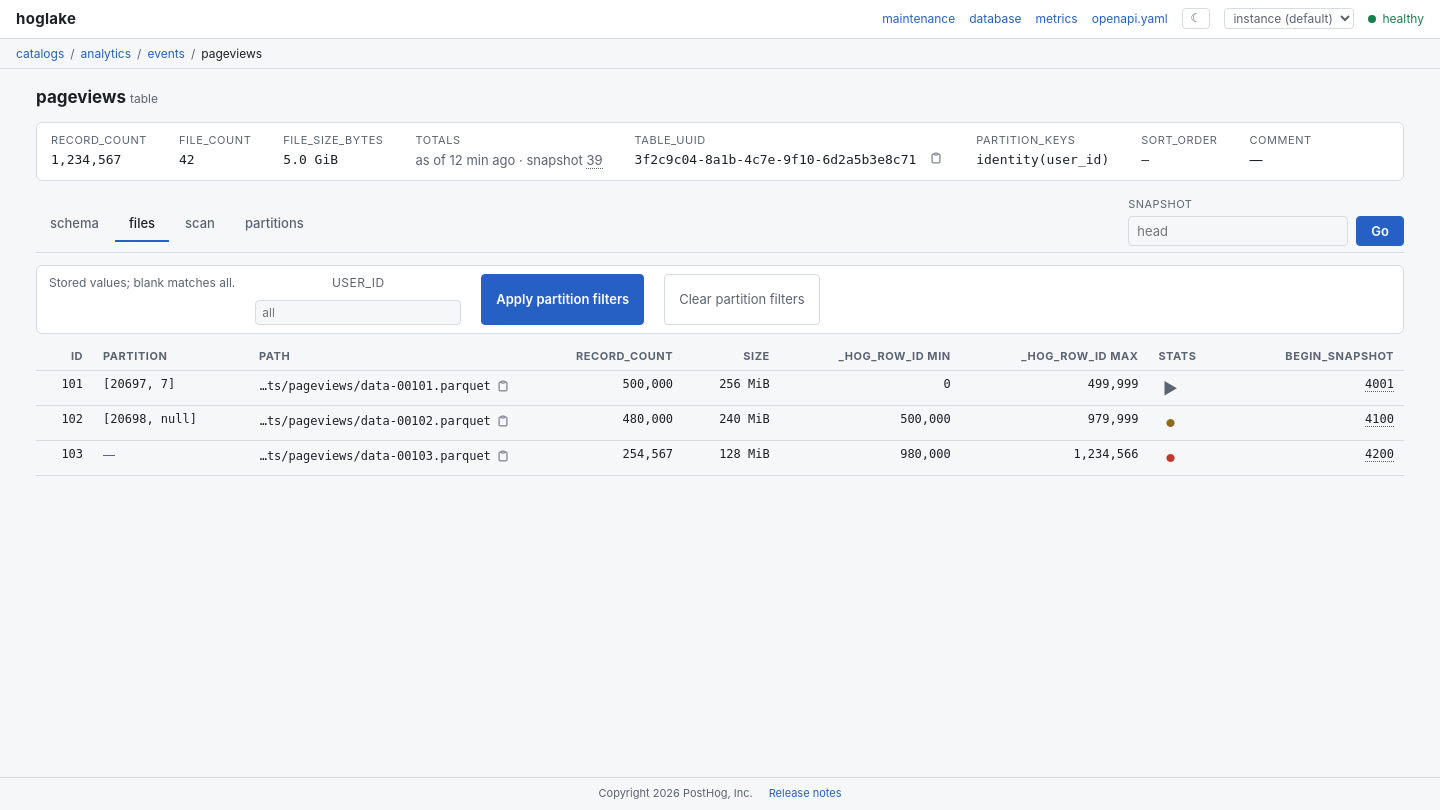
Test: TablePage › preserves identity text, whitespace, colons, Unicode and large integers
Type " 9007199254740993:🦔 " into the field named "filter by user_id" at (358, 312), box [255,300,461,325]
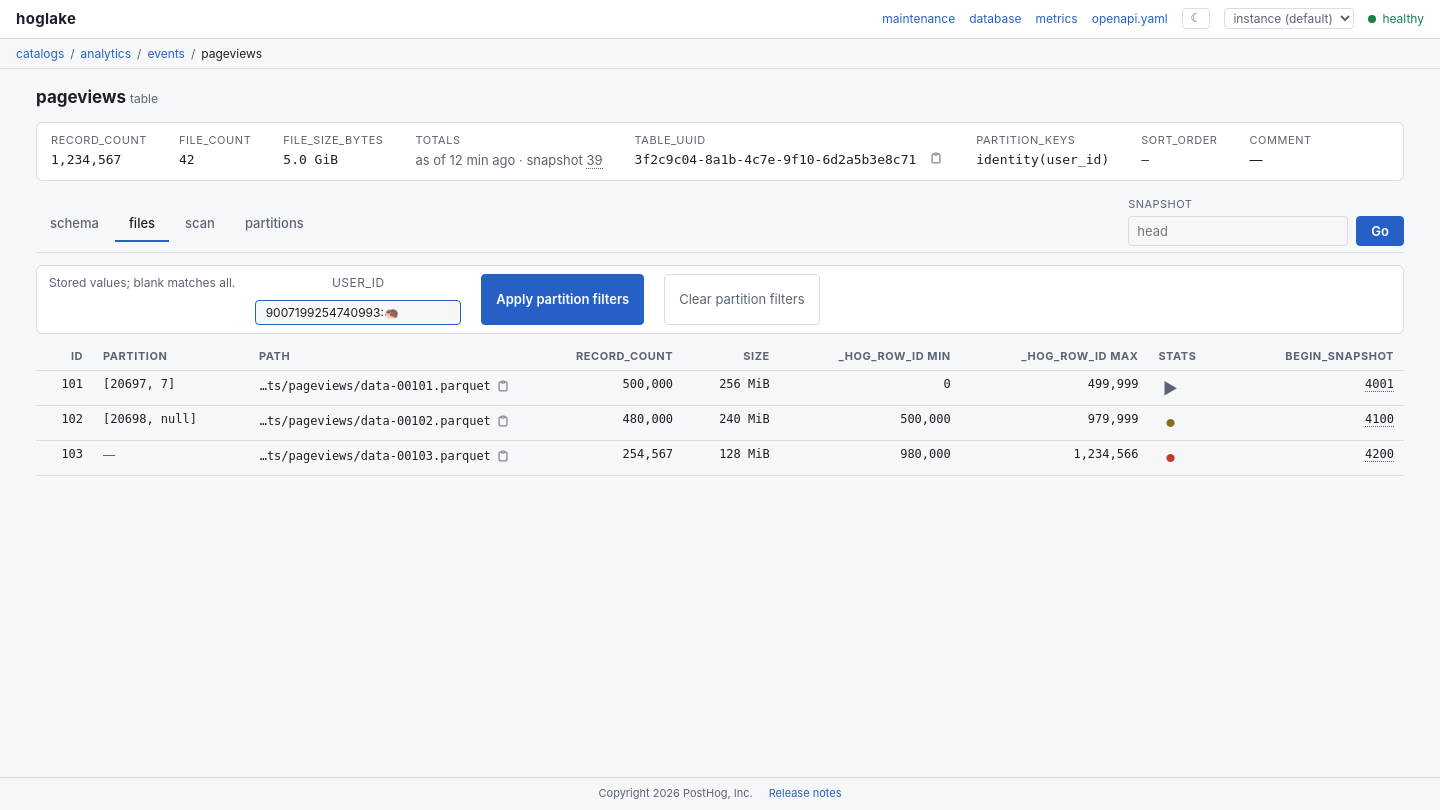
Click the button "Apply partition filters" at (563, 300), box [481,274,644,325]
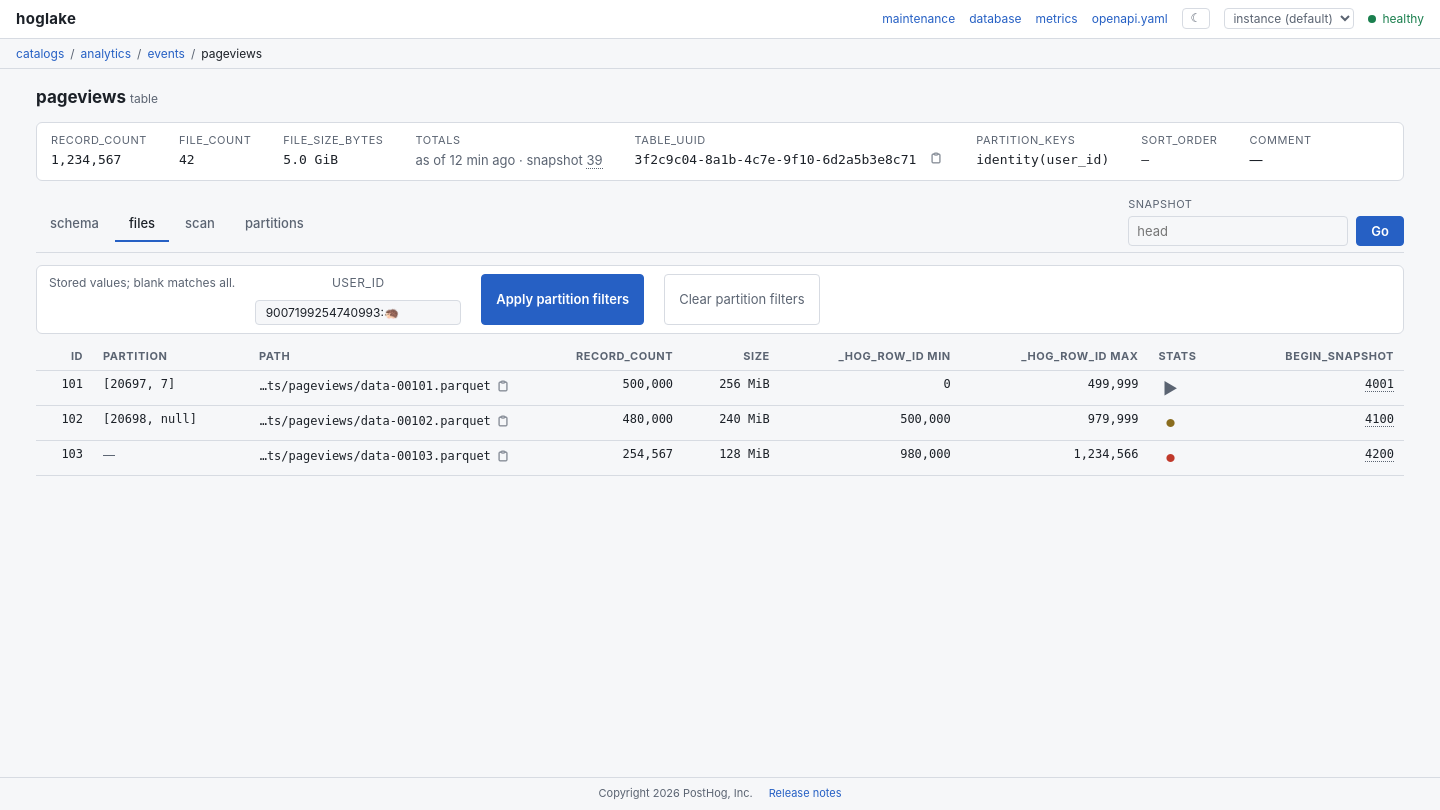
Now the field named "filter by user_id" holds " 9007199254740993:🦔 ", box [255,300,461,325]
Click the tab "schema" at (74, 224), box [36,207,113,242]
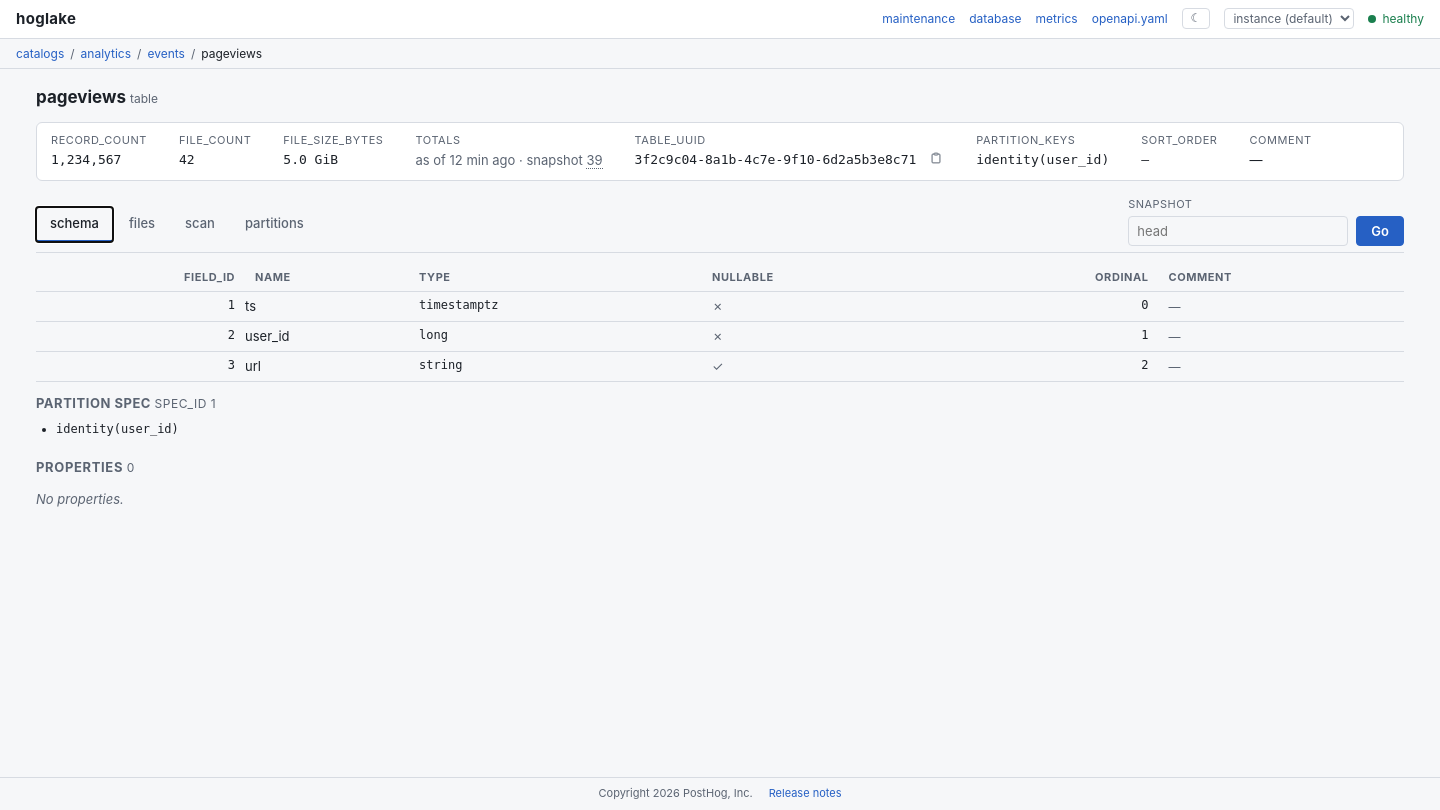
Click the tab "files" at (142, 224), box [115,207,169,242]
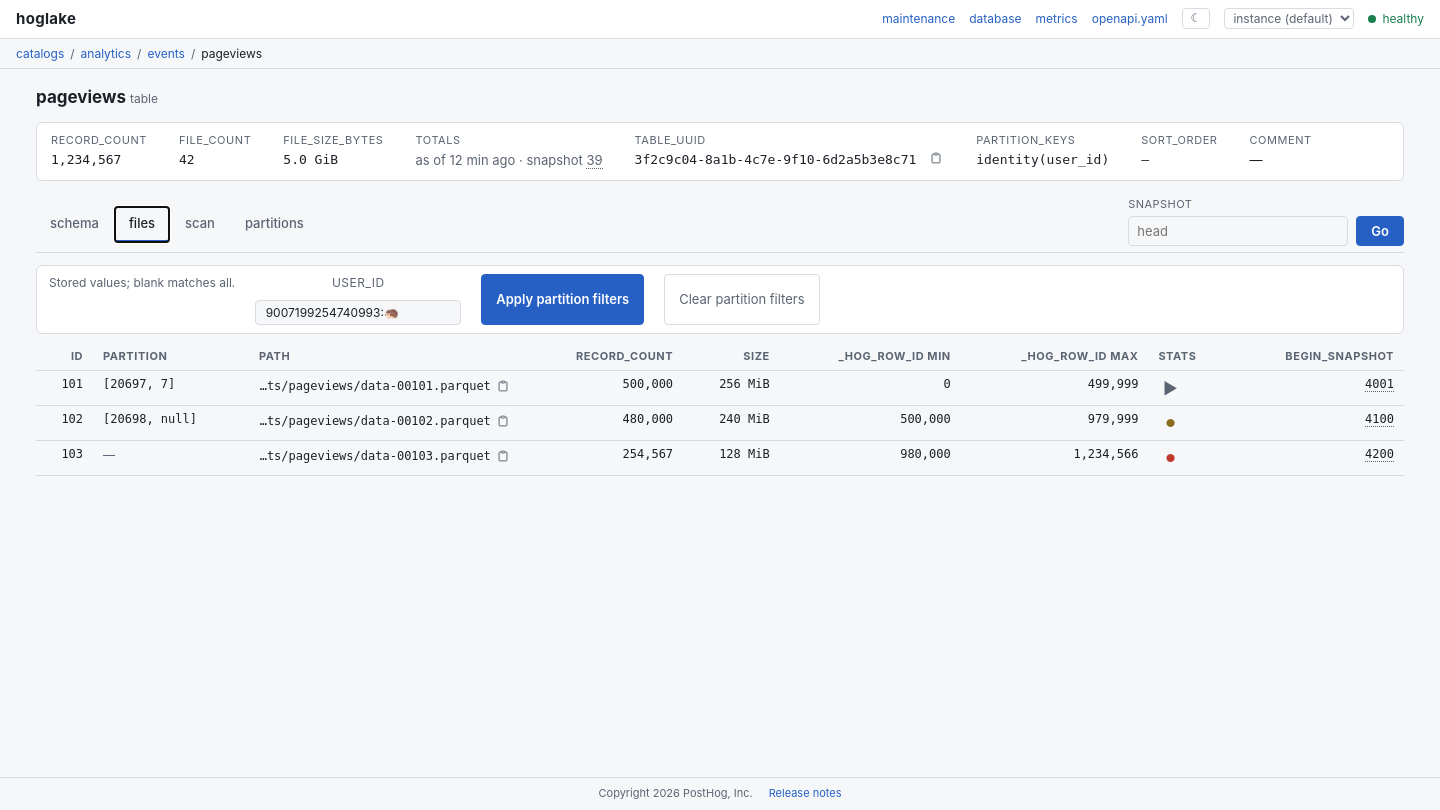
Now the field named "filter by user_id" holds " 9007199254740993:🦔 ", box [255,300,461,325]
